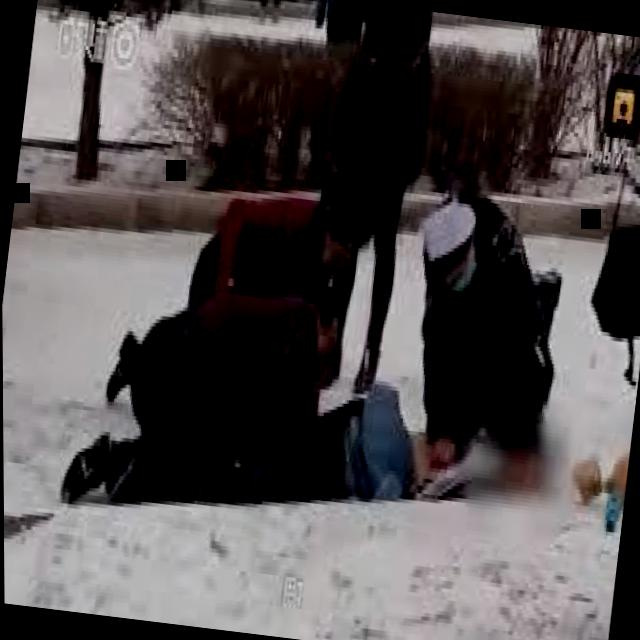Fall-Detected: (75, 353, 480, 529)
